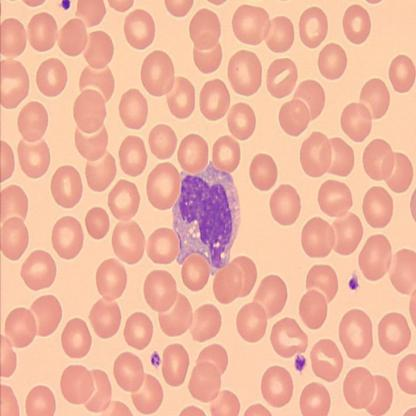Monocyte: (169, 158, 242, 278)
